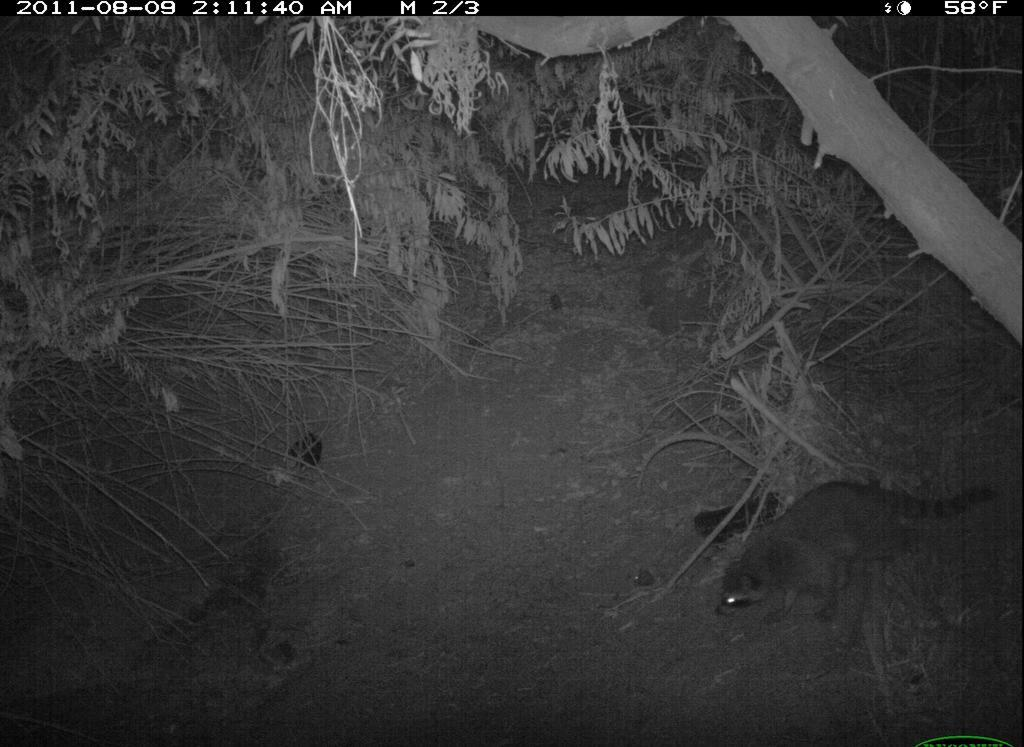raccoon: (707, 466, 1021, 634)
